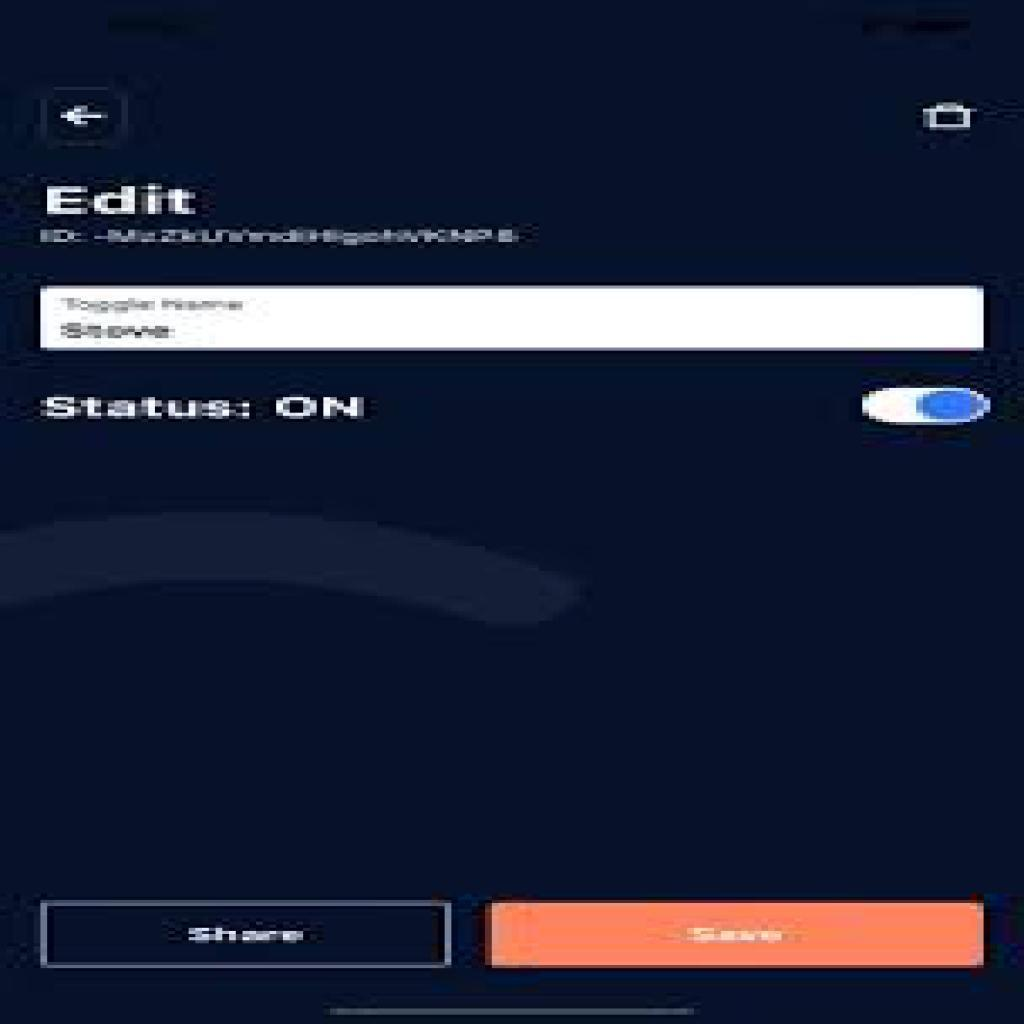button: (490, 902, 984, 966), (43, 904, 452, 971)
icon: (37, 83, 136, 142), (919, 89, 979, 144)
input: (41, 287, 987, 352)
switch: (863, 387, 996, 426)
